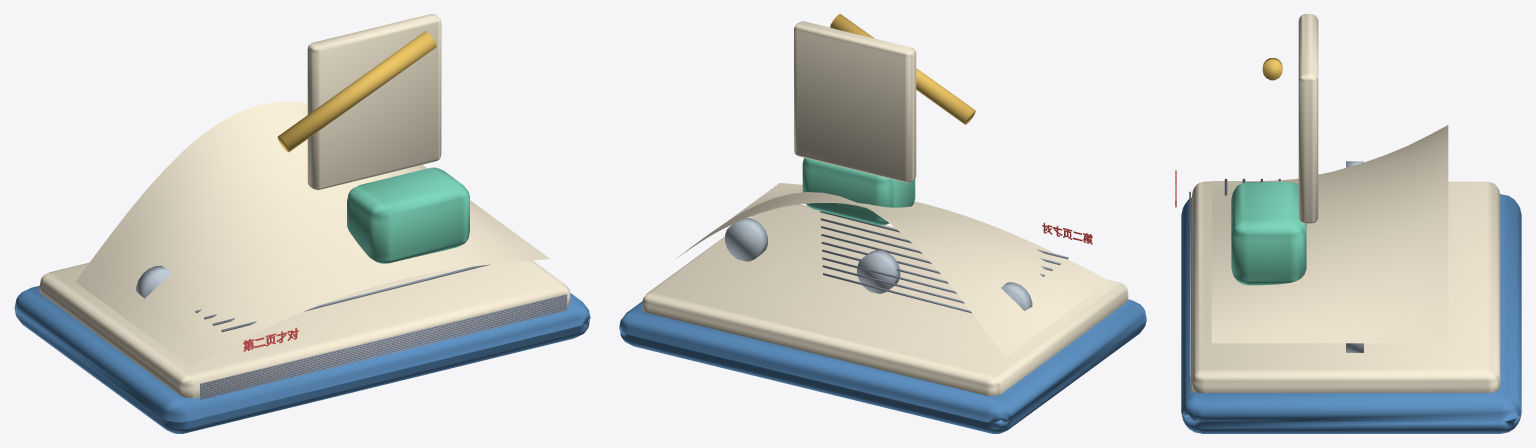
Rendered from G06_Second_Page_PopUp_School_Plan.glb.
3 views of the same model, side by side, from view 1: azimuth 30°, elevation 25°; view 2: azimuth 150°, elevation 25°; view 3: azimuth 270°, elevation 25° (orthographic). The views are drawn at different scales.
Visible parts, largest first — view 1: G06 second actual curved paper page turns as a real surface, G06 3D stacked physical 35 classroom paper sheets, G06 leatherbound A5 school action plan book cover, G06 pop-up school easel white projection board, G06 popup little mint school desk chair, G06_BOOK_ACTOR | Actual graphite hand drawn classroom report, G06 diagram arrow in air, G06_PAGE_TURN_ACTOR | Actual graphite hand drawn classroom r, G06_BOOK_ACTOR | Visible three-ring binder steel mechanisms; view 2: G06 3D stacked physical 35 classroom paper sheets, G06 leatherbound A5 school action plan book cover, G06 second actual curved paper page turns as a real surface, G06 pop-up school easel white projection board, G06 popup little mint school desk chair, G06_BOOK_ACTOR | Visible three-ring binder steel mechanisms, G06_PAGE_TURN_ACTOR | Actual graphite hand drawn classroom r, G06 diagram arrow in air; view 3: G06 second actual curved paper page turns as a real surface, G06 3D stacked physical 35 classroom paper sheets, G06 leatherbound A5 school action plan book cover, G06 popup little mint school desk chair, G06 pop-up school easel white projection board, G06_BOOK_ACTOR | Actual graphite hand drawn classroom report, G06 diagram arrow in air.
Part boxes in pixels (box(x1,y1,x2,y2)): G06 second actual curved paper page turns as a real surface: box(75, 101, 549, 365); G06 3D stacked physical 35 classroom paper sheets: box(39, 260, 570, 398); G06 leatherbound A5 school action plan book cover: box(14, 286, 590, 433); G06 pop-up school easel white projection board: box(307, 14, 441, 190); G06 popup little mint school desk chair: box(347, 167, 469, 263); G06_BOOK_ACTOR | Actual graphite hand drawn classroom report: box(200, 294, 567, 399); G06 diagram arrow in air: box(277, 31, 436, 152); G06_PAGE_TURN_ACTOR | Actual graphite hand drawn classroom r: box(195, 264, 489, 332); G06_BOOK_ACTOR | Visible three-ring binder steel mechanisms: box(136, 265, 172, 298); G06 3D stacked physical 35 classroom paper sheets: box(642, 204, 1128, 396); G06 leatherbound A5 school action plan book cover: box(619, 299, 1146, 433); G06 second actual curved paper page turns as a real surface: box(676, 183, 1109, 357); G06 pop-up school easel white projection board: box(794, 21, 916, 182); G06 popup little mint school desk chair: box(802, 158, 915, 225); G06_BOOK_ACTOR | Visible three-ring binder steel mechanisms: box(725, 218, 1032, 310); G06_PAGE_TURN_ACTOR | Actual graphite hand drawn classroom r: box(820, 211, 1068, 313); G06 diagram arrow in air: box(830, 14, 975, 124); G06 second actual curved paper page turns as a real surface: box(1211, 125, 1448, 343); G06 3D stacked physical 35 classroom paper sheets: box(1192, 181, 1500, 392); G06 leatherbound A5 school action plan book cover: box(1181, 194, 1521, 433); G06 popup little mint school desk chair: box(1231, 182, 1306, 285); G06 pop-up school easel white projection board: box(1298, 14, 1318, 223); G06_BOOK_ACTOR | Actual graphite hand drawn classroom report: box(1189, 191, 1190, 392); G06 diagram arrow in air: box(1262, 58, 1282, 80).
Size of the model in its own units: 1.42 by 0.9749 by 0.9668.
